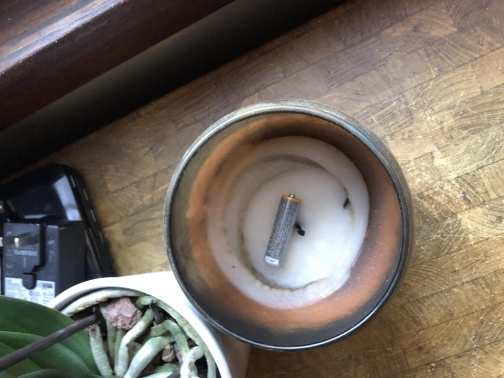battery: (263, 192, 302, 270)
